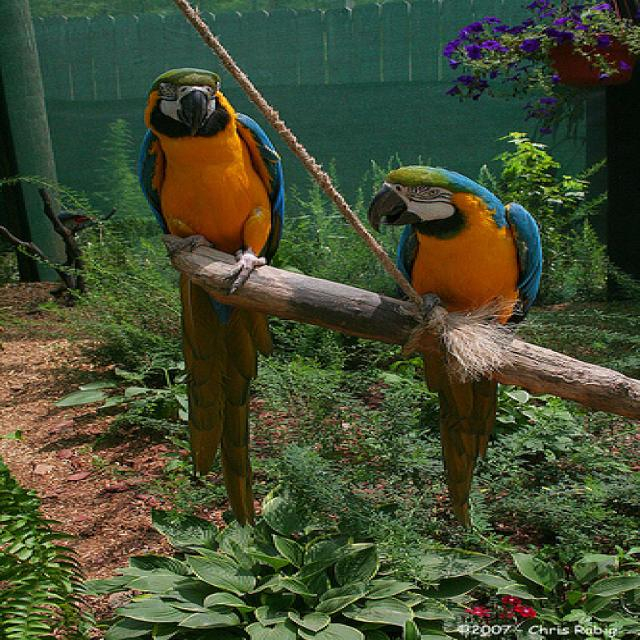bird: (110, 53, 301, 535), (353, 150, 537, 516)
pottedplant: (422, 1, 639, 125)
